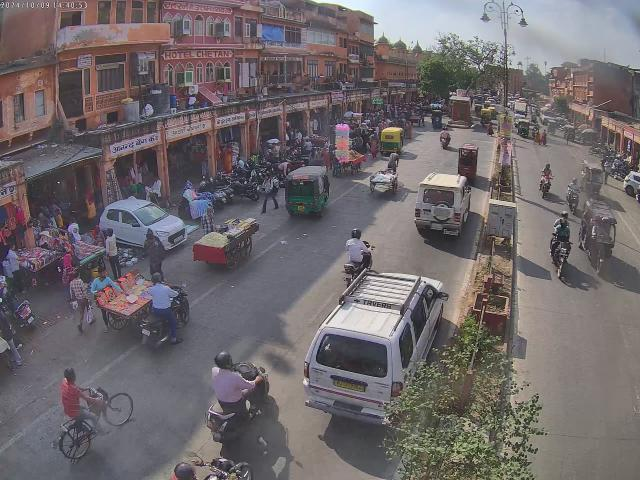auto: (580, 197, 618, 272), (284, 166, 332, 221), (378, 126, 404, 156), (479, 106, 497, 126)
bicycle-rider: (53, 366, 134, 460)
car: (302, 270, 450, 430), (100, 198, 186, 252), (412, 174, 472, 240)
helmet: (212, 350, 235, 370), (150, 273, 164, 285), (349, 228, 362, 239), (560, 217, 568, 227)
license_plate: (334, 378, 364, 392), (443, 230, 458, 236)
motorbike-rider: (137, 271, 190, 350), (342, 228, 374, 282), (548, 216, 572, 278), (538, 164, 554, 198)
person: (70, 270, 93, 332), (103, 227, 121, 277), (6, 244, 24, 290), (263, 172, 279, 214), (146, 176, 163, 204), (64, 217, 82, 241)
rickshow: (370, 150, 400, 194)
scooty: (0, 278, 35, 330), (200, 176, 234, 206)
scooty-rider: (204, 350, 272, 440), (563, 180, 581, 212), (438, 127, 452, 149)
vendor: (93, 265, 156, 334), (192, 218, 260, 271)
